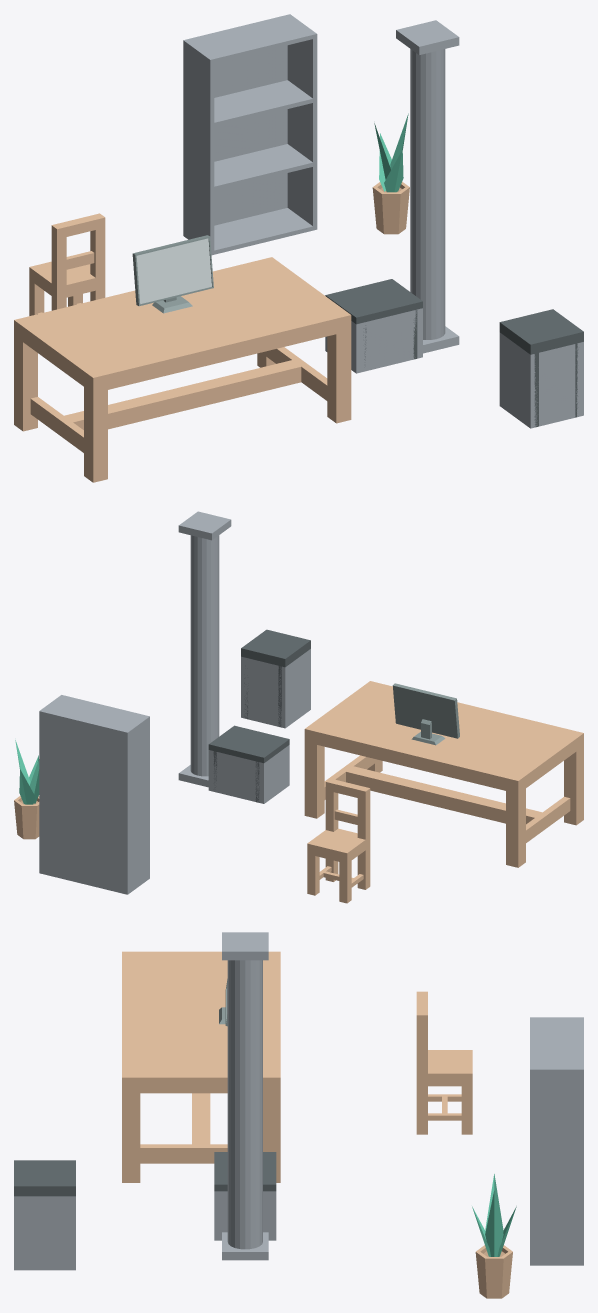
3 renders of one model, top to bottom at view 1: azimuth 30°, elevation 25°; view 2: azimuth 150°, elevation 25°; view 3: azimuth 270°, elevation 25°, orthographic. The views are drawn at different scales.
Parts seen in each view (by area): view 1: table_green__table(Clone), column_cyan__column_cyan shaft, shelf_orange__shelf_orange back, shelf_orange__shelf_orange side_l, bin_gray__bin_gray shell, chair_cyan__chair(Clone), shelf_orange__shelf_orange side_r, monitor_gray__computerScreen(Clone), crate_red__crate_red shell, shelf_orange__shelf_orange board3, shelf_orange__shelf_orange board0, shelf_orange__shelf_orange board2 (+6 smaller); view 2: table_green__table(Clone), shelf_orange__shelf_orange back, column_cyan__column_cyan shaft, chair_cyan__chair(Clone), bin_gray__bin_gray shell, shelf_orange__shelf_orange side_l, crate_red__crate_red shell, monitor_gray__computerScreen(Clone), crate_red__crate_red lid, shelf_orange__shelf_orange board3, bin_gray__bin_gray lid, column_cyan__column_cyan capital (+3 smaller); view 3: table_green__table(Clone), shelf_orange__shelf_orange side_r, column_cyan__column_cyan shaft, bin_gray__bin_gray shell, chair_cyan__chair(Clone), shelf_orange__shelf_orange board3, bin_gray__bin_gray lid, plant_pink__pottedPlant(Clone), column_cyan__column_cyan capital, crate_red__crate_red shell, plant_pink__plant, crate_red__crate_red lid (+1 smaller).
Boxes of the visible parts, box(x1,y1,x2,y2) form: table_green__table(Clone): box(14, 257, 351, 482); column_cyan__column_cyan shaft: box(410, 49, 445, 339); shelf_orange__shelf_orange back: box(187, 15, 287, 225); shelf_orange__shelf_orange side_l: box(183, 39, 214, 255); bin_gray__bin_gray shell: box(499, 332, 583, 428); chair_cyan__chair(Clone): box(29, 213, 105, 315); shelf_orange__shelf_orange side_r: box(286, 14, 317, 230); monitor_gray__computerScreen(Clone): box(132, 235, 213, 313); crate_red__crate_red shell: box(325, 308, 422, 373); shelf_orange__shelf_orange board3: box(189, 16, 312, 62); shelf_orange__shelf_orange board0: box(214, 208, 312, 254); shelf_orange__shelf_orange board2: box(214, 80, 312, 126); table_green__table(Clone): box(304, 681, 583, 867); shelf_orange__shelf_orange back: box(42, 711, 124, 893); column_cyan__column_cyan shaft: box(190, 535, 219, 776); chair_cyan__chair(Clone): box(307, 778, 370, 903); bin_gray__bin_gray shell: box(241, 649, 310, 728); shelf_orange__shelf_orange side_l: box(124, 715, 149, 894); crate_red__crate_red shell: box(208, 745, 289, 803); monitor_gray__computerScreen(Clone): box(392, 683, 459, 745); crate_red__crate_red lid: box(208, 725, 289, 763); shelf_orange__shelf_orange board3: box(44, 695, 146, 730); bin_gray__bin_gray lid: box(241, 629, 310, 667); column_cyan__column_cyan capital: box(178, 511, 231, 540); table_green__table(Clone): box(122, 951, 280, 1182); shelf_orange__shelf_orange side_r: box(530, 1067, 583, 1265); column_cyan__column_cyan shaft: box(227, 960, 262, 1249); bin_gray__bin_gray shell: box(14, 1196, 75, 1270); chair_cyan__chair(Clone): box(416, 991, 472, 1134); shelf_orange__shelf_orange board3: box(530, 1019, 580, 1067); bin_gray__bin_gray lid: box(14, 1160, 75, 1196); plant_pink__pottedPlant(Clone): box(475, 1245, 512, 1298); column_cyan__column_cyan capital: box(222, 932, 268, 960); crate_red__crate_red shell: box(214, 1191, 276, 1240); plant_pink__plant: box(472, 1174, 516, 1256); crate_red__crate_red lid: box(214, 1152, 276, 1191).
Size of the model in its own units: 3.75 by 2.2 by 3.68.
